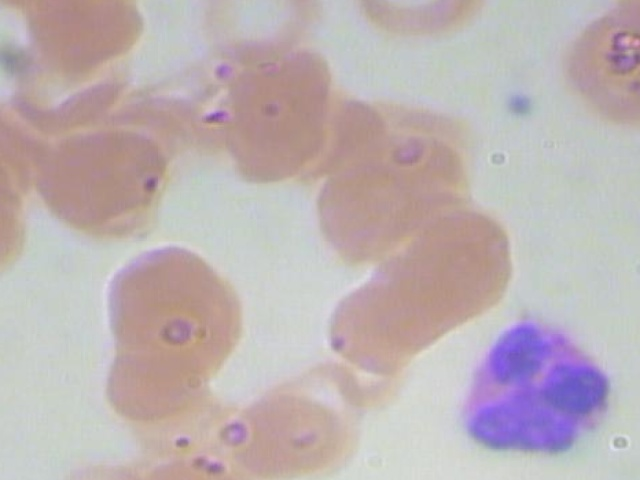Platelets: (496, 83, 547, 124)
RBC: (33, 130, 178, 252), (294, 153, 439, 264), (91, 308, 235, 419), (194, 71, 334, 185), (91, 243, 235, 353), (231, 375, 371, 480), (19, 0, 164, 77), (552, 11, 640, 137), (183, 0, 329, 68), (0, 179, 49, 289)
WBC: (430, 314, 640, 468)
